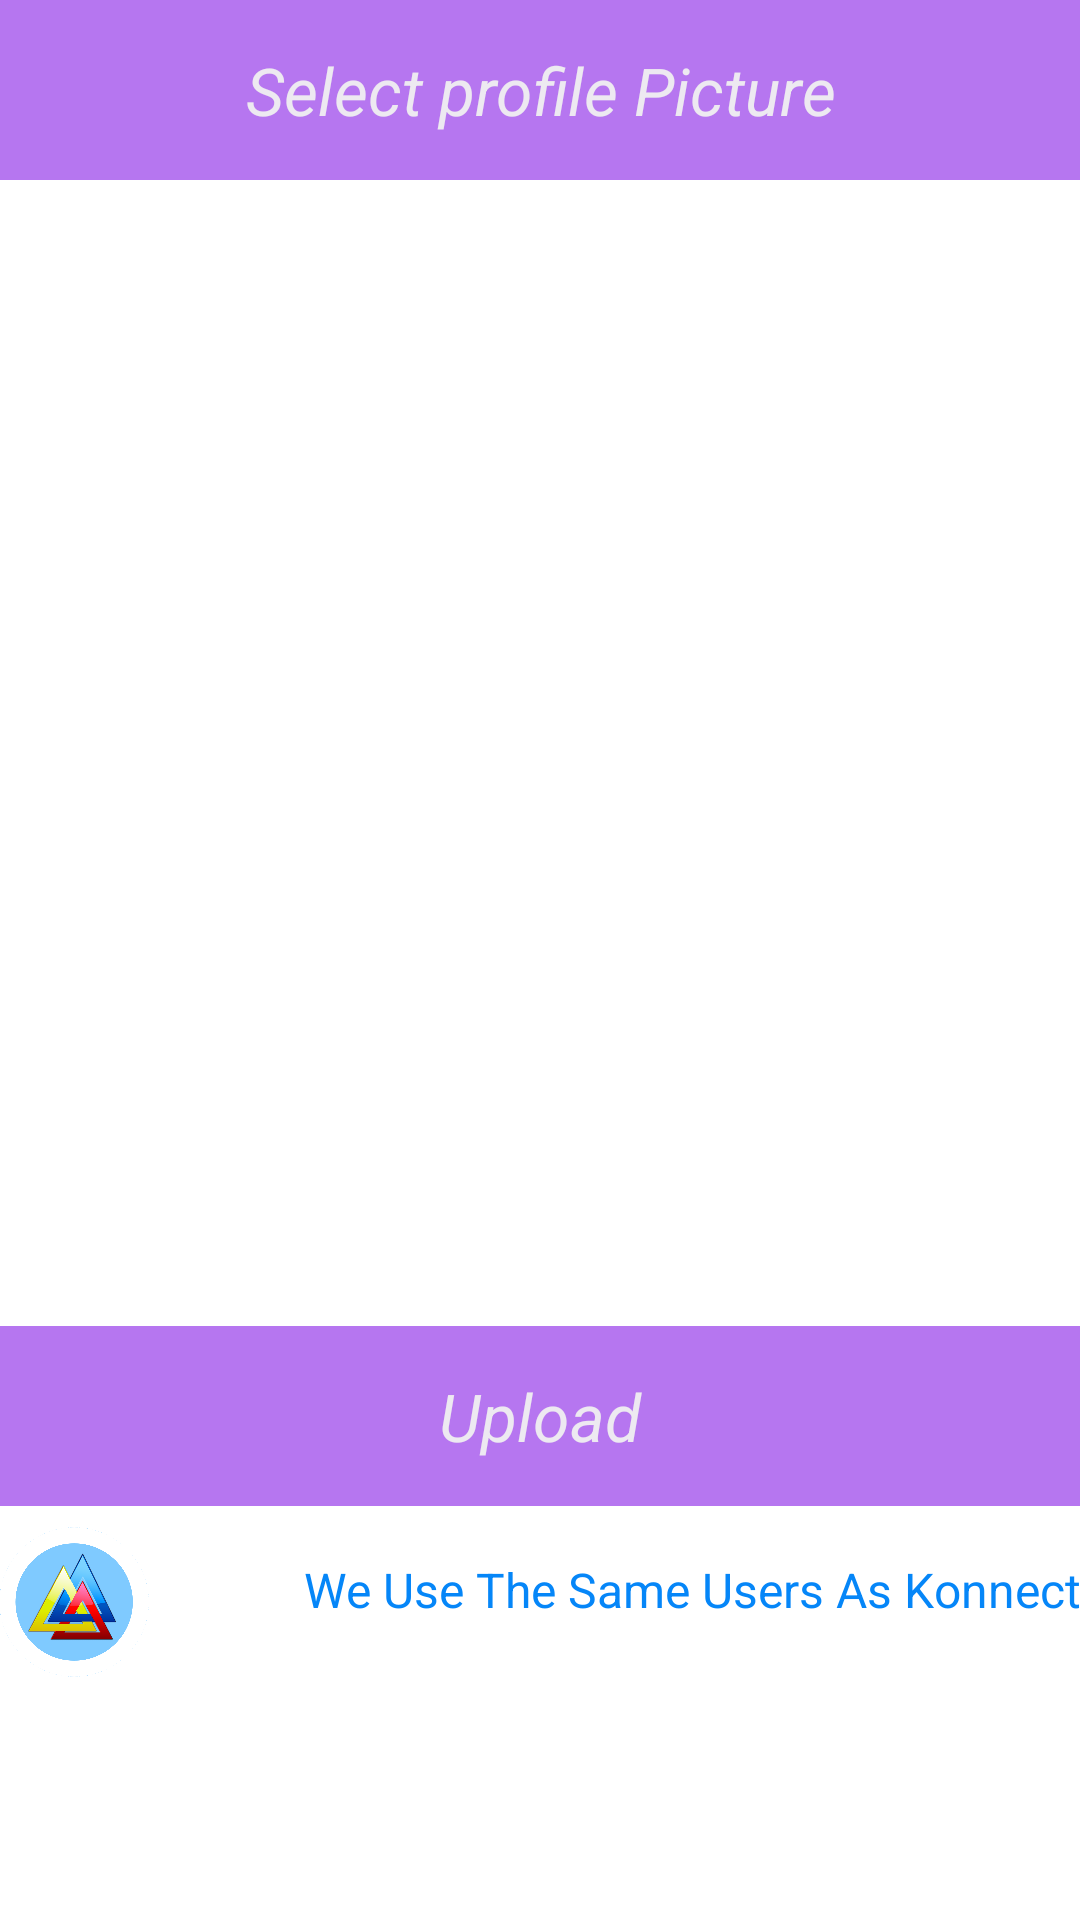

Icon click points for this 1080 x 1920 phone screenshot, format (x=x, y=y):
konnect: (x=74, y=1602)
